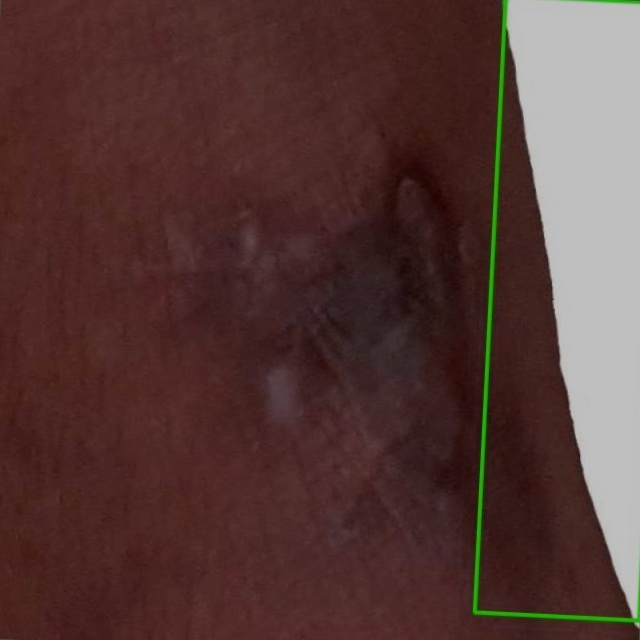Contact Dermatitis: (473, 0, 639, 621)
